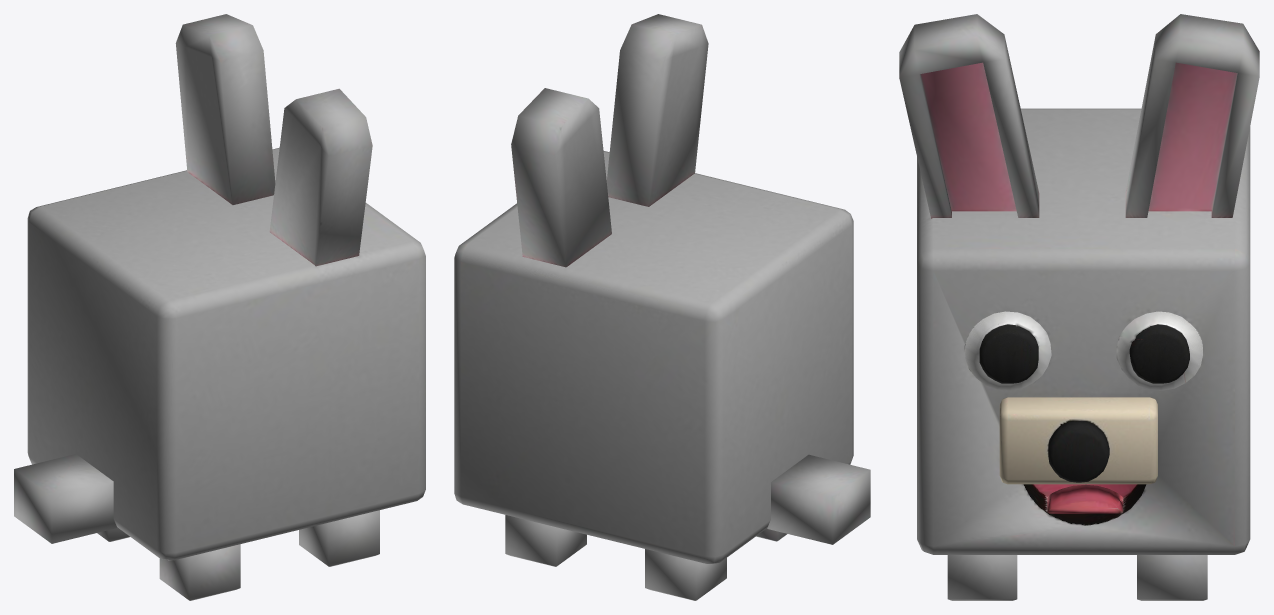
File: tripo_convert_af39e077-a141-4992-b422-fda178f9716e.fbx
3 views of the same model, side by side, from view 1: azimuth 30°, elevation 25°; view 2: azimuth 150°, elevation 25°; view 3: azimuth 270°, elevation 25° (orthographic). The views are drawn at different scales.
Visible parts, largest first — view 1: tripo_node_af39e077; view 2: tripo_node_af39e077; view 3: tripo_node_af39e077.
Boxes of the visible parts, box(x1,y1,x2,y2) form: tripo_node_af39e077: box(14, 14, 425, 600); tripo_node_af39e077: box(454, 14, 870, 600); tripo_node_af39e077: box(899, 14, 1259, 600).
Size of the model in its own units: 84.57 by 59.57 by 99.8.
